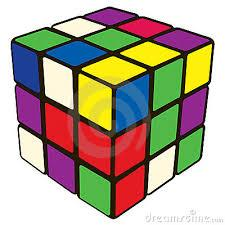cubos: (4, 1, 217, 217)
